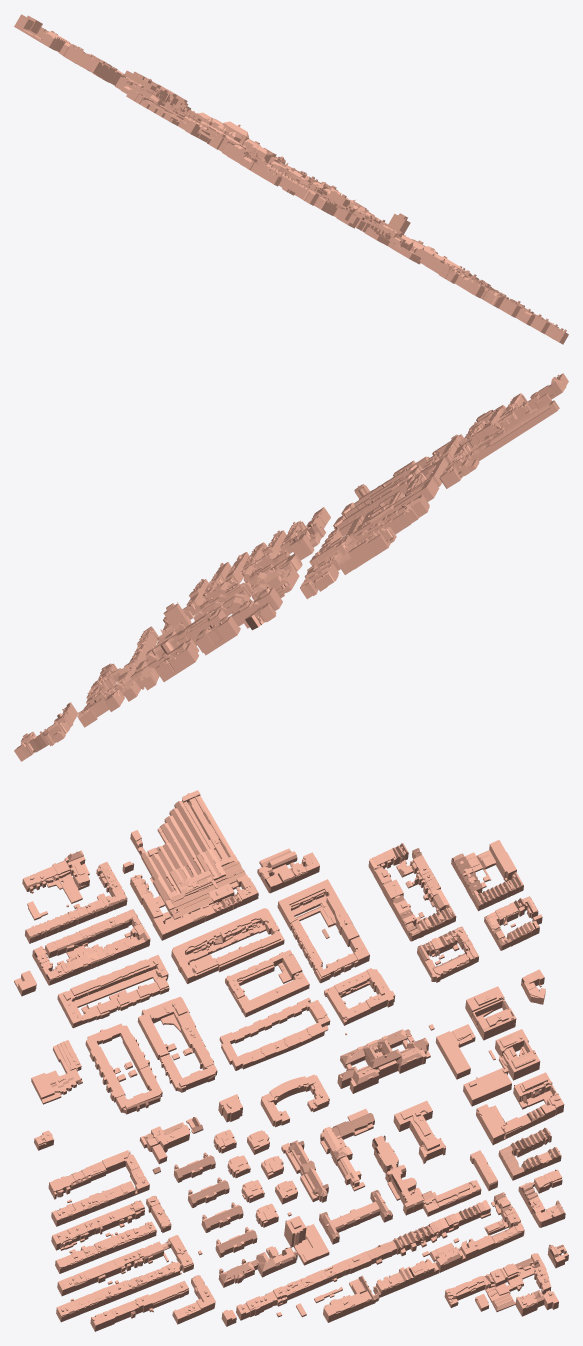
The picture shows the model from 3 angles, top to bottom: view 1: azimuth 30°, elevation 25°; view 2: azimuth 150°, elevation 25°; view 3: azimuth 270°, elevation 25°; orthographic projection. The views are drawn at different scales.
Bounding box in the file's own units: 1.9e+07 × 1.44e+07 × 2.13e+07.
